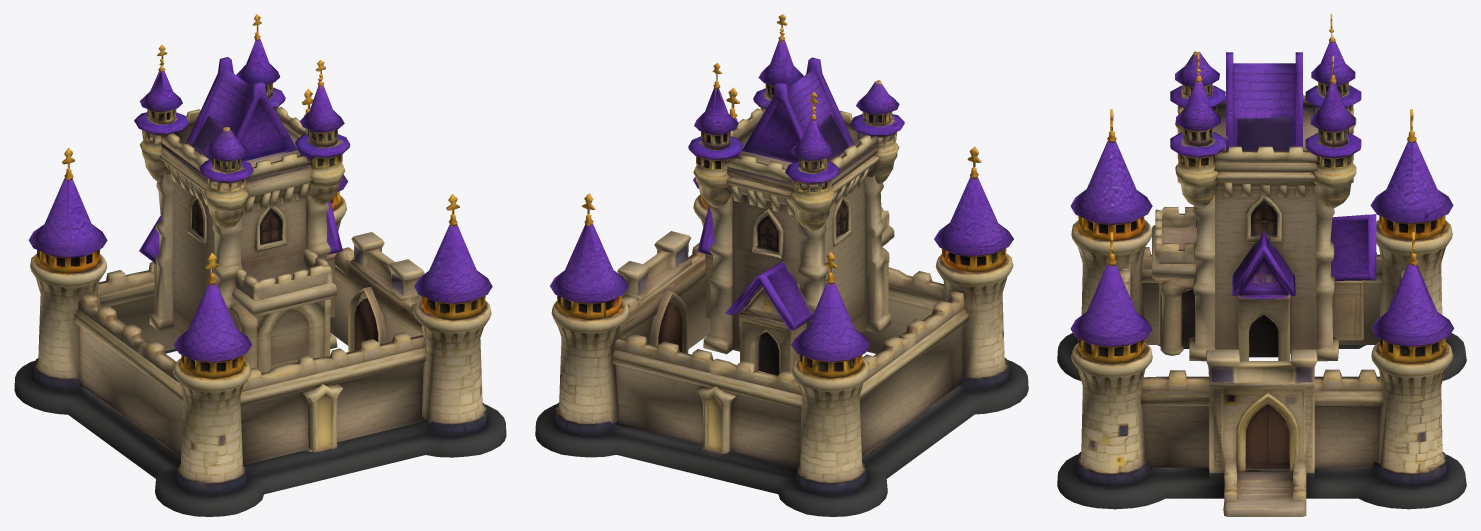
The model's file is r33-castle.glb.
The picture shows the model from 3 angles, left to right: view 1: azimuth 30°, elevation 25°; view 2: azimuth 150°, elevation 25°; view 3: azimuth 270°, elevation 25°; orthographic projection. The views are drawn at different scales.
Parts seen in each view (by area): view 1: tripo_node_9348262e-618a-4845-9053-e0f6a2b46725; view 2: tripo_node_9348262e-618a-4845-9053-e0f6a2b46725; view 3: tripo_node_9348262e-618a-4845-9053-e0f6a2b46725.
Part boxes in pixels (bbox=[...]): tripo_node_9348262e-618a-4845-9053-e0f6a2b46725: bbox=[14, 14, 506, 516]; tripo_node_9348262e-618a-4845-9053-e0f6a2b46725: bbox=[535, 14, 1028, 516]; tripo_node_9348262e-618a-4845-9053-e0f6a2b46725: bbox=[1057, 14, 1466, 516].
Bounding box in the file's own units: 0.9941 × 0.998 × 0.9629.
1 material, 1 textured.
